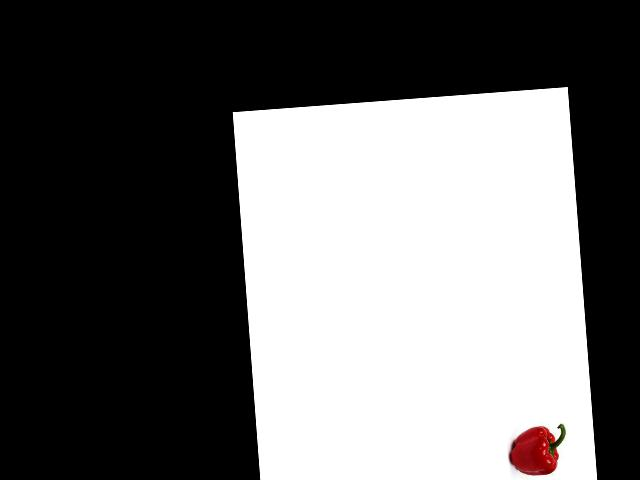bell_pepper: (506, 420, 569, 480)
